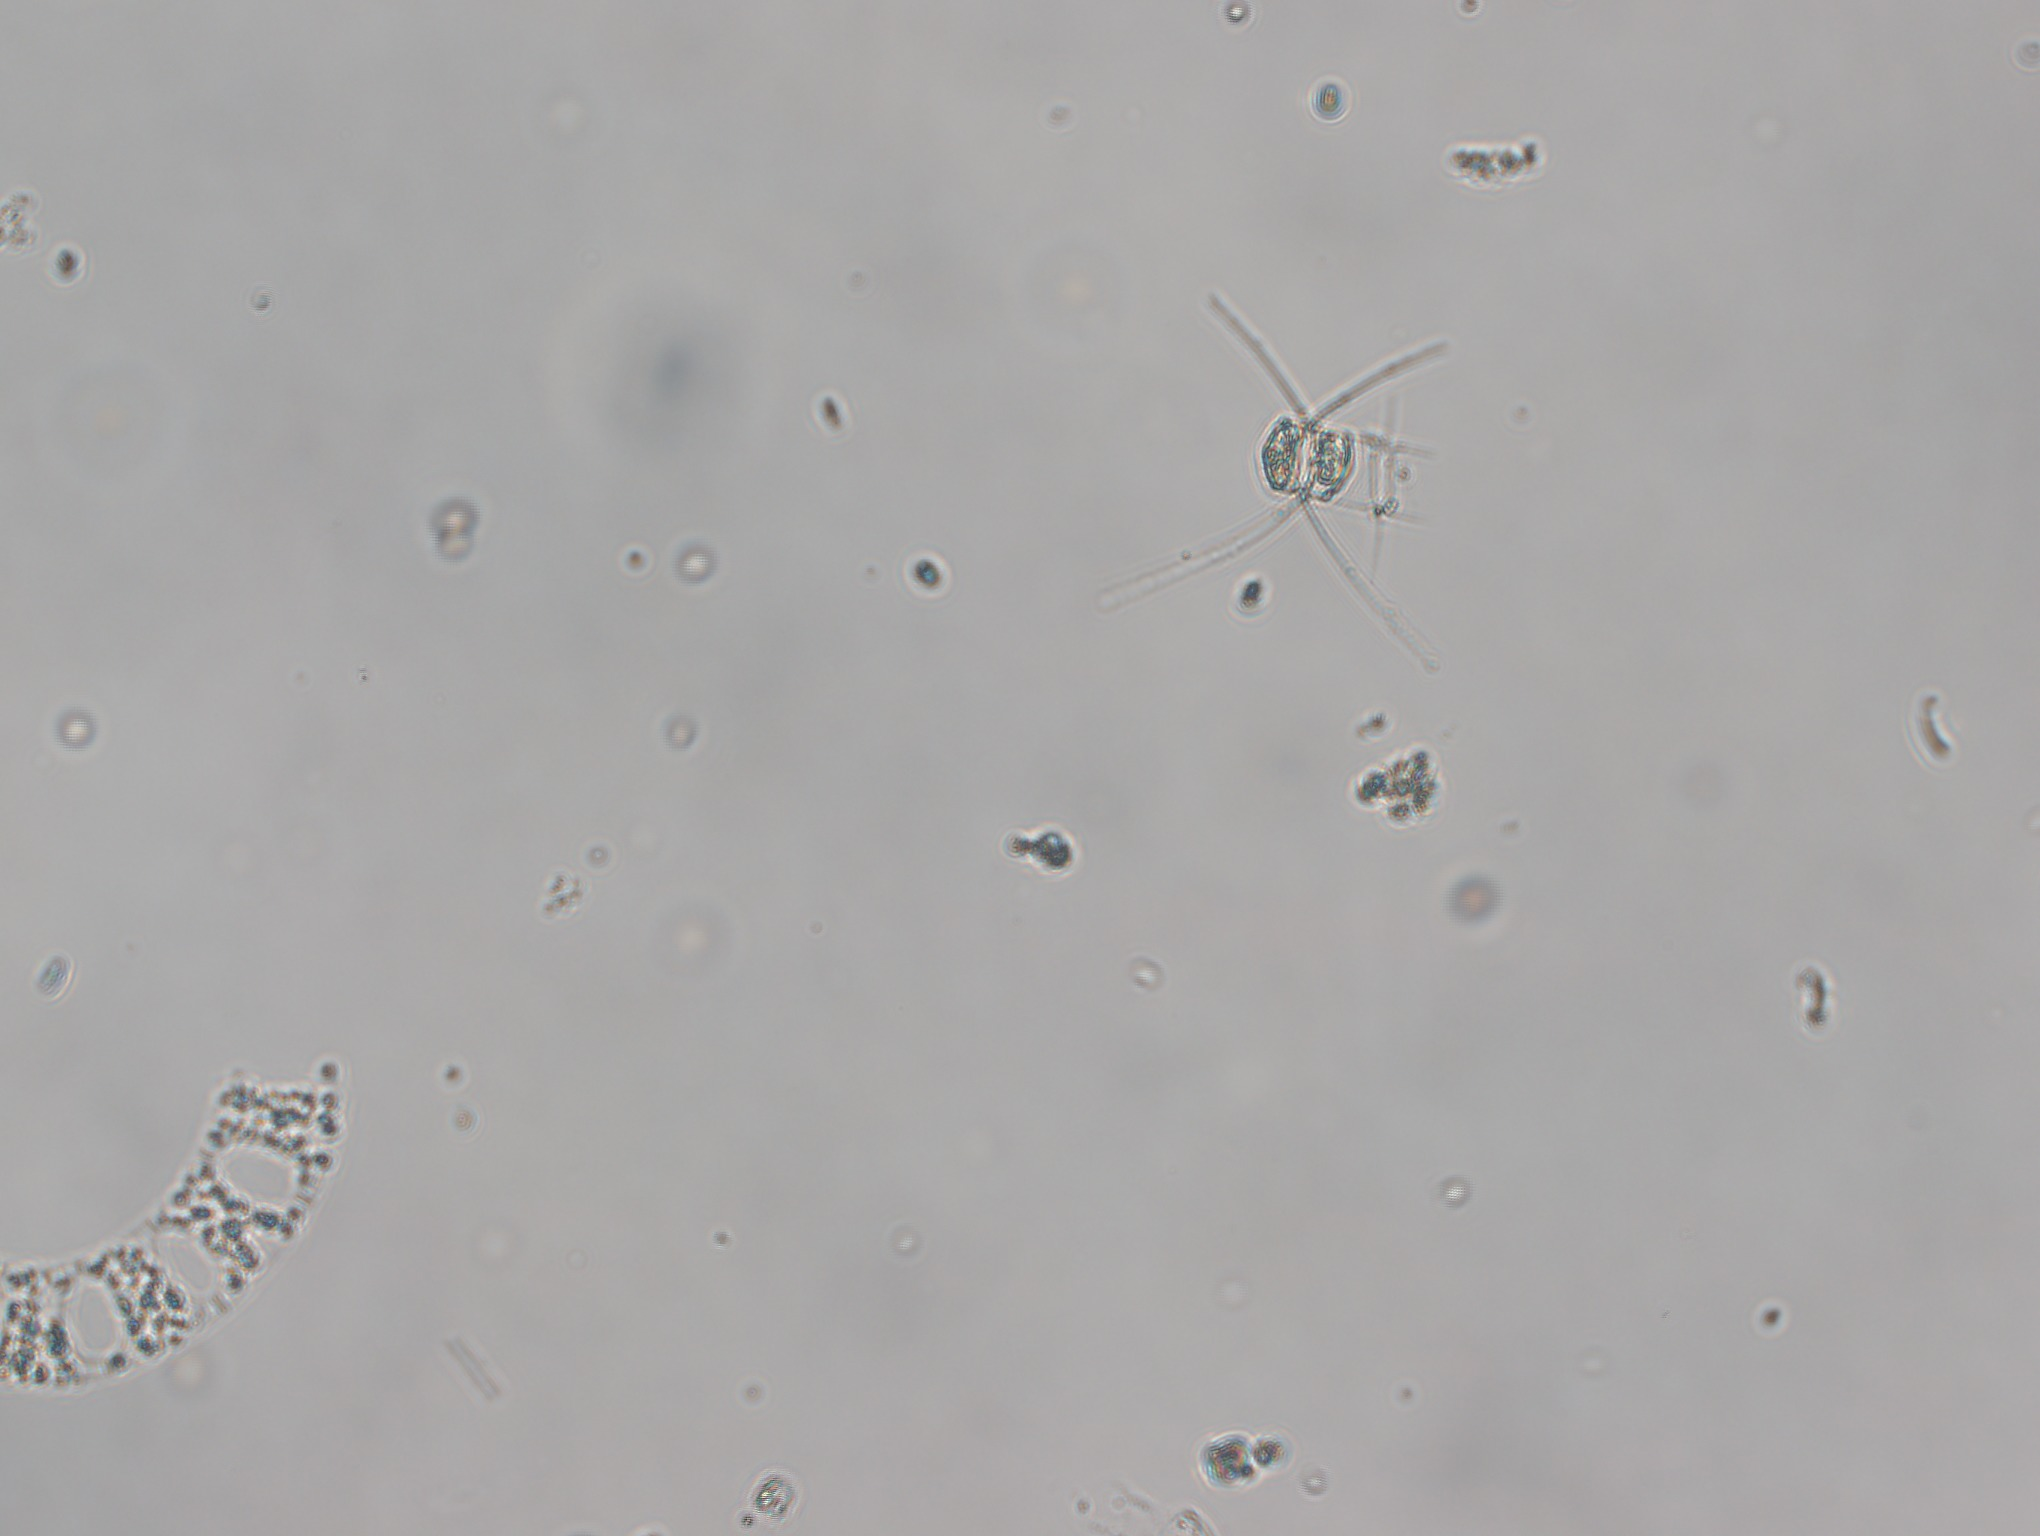chaetoceros: (1074, 271, 1547, 682)
eucampia: (2, 1050, 374, 1409)
